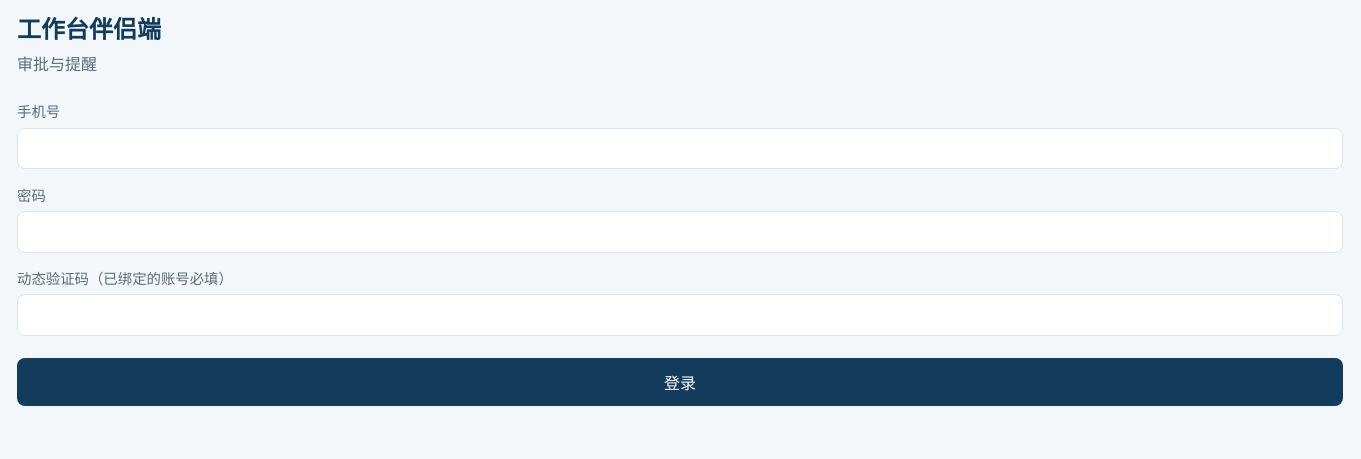
Scenario: LoginPage › tells the user when the account needs a TOTP code (was: lumped into wrong-password)
Step 1. Type "13800000000" into the field labelled "手机号" → [680, 148], box [17, 128, 1343, 169]
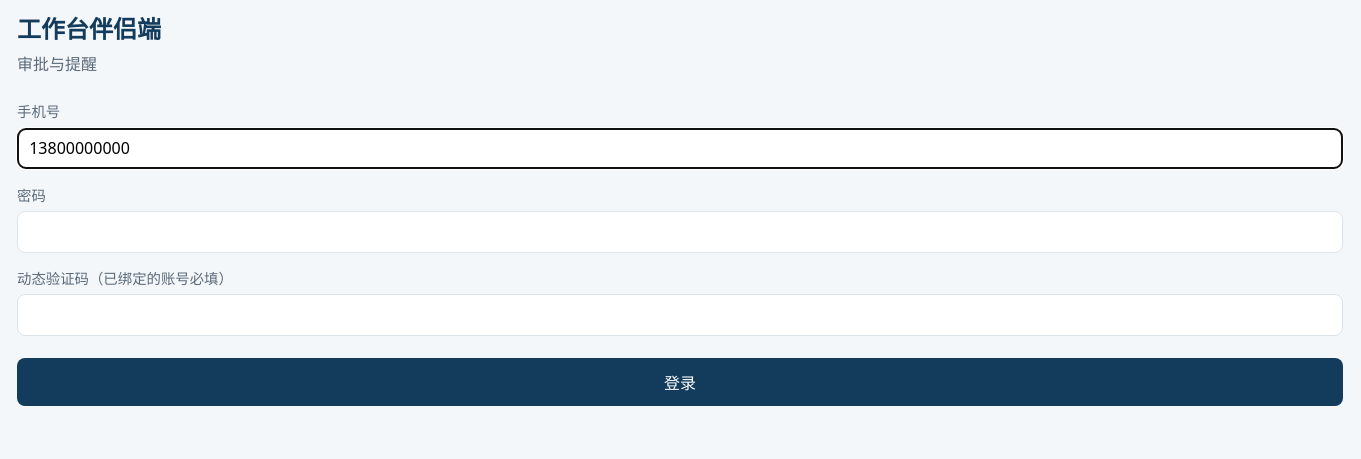
Step 2. Type "correct-horse-battery" into the password field labelled "密码" → [680, 232], box [17, 211, 1343, 253]
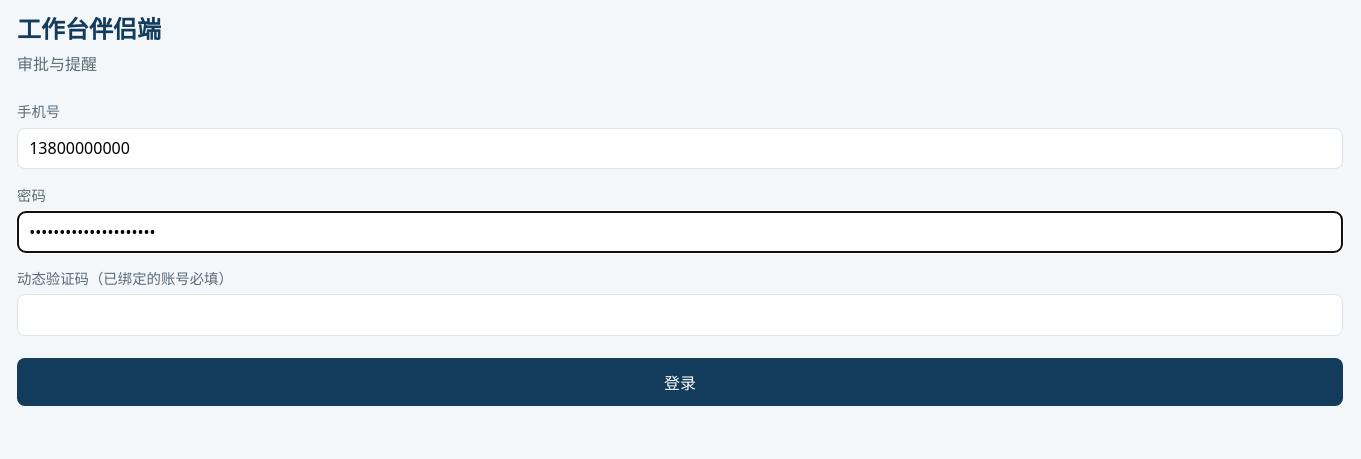
Step 3. Click the button "登录" → [680, 382], box [17, 358, 1343, 406]
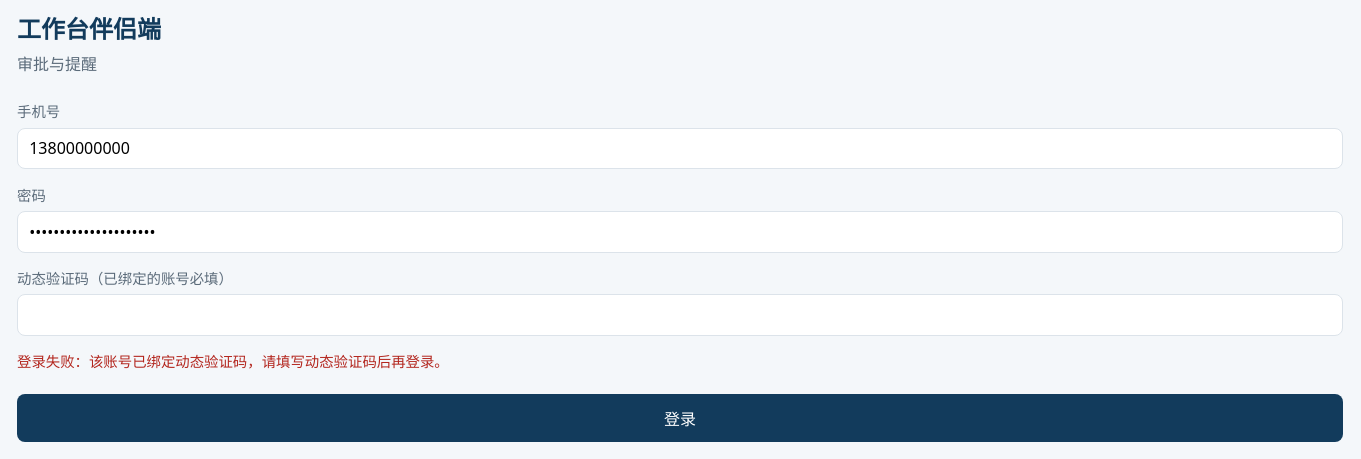
Expected: the message shows "已绑定动态验证码", [17, 352, 449, 371]
